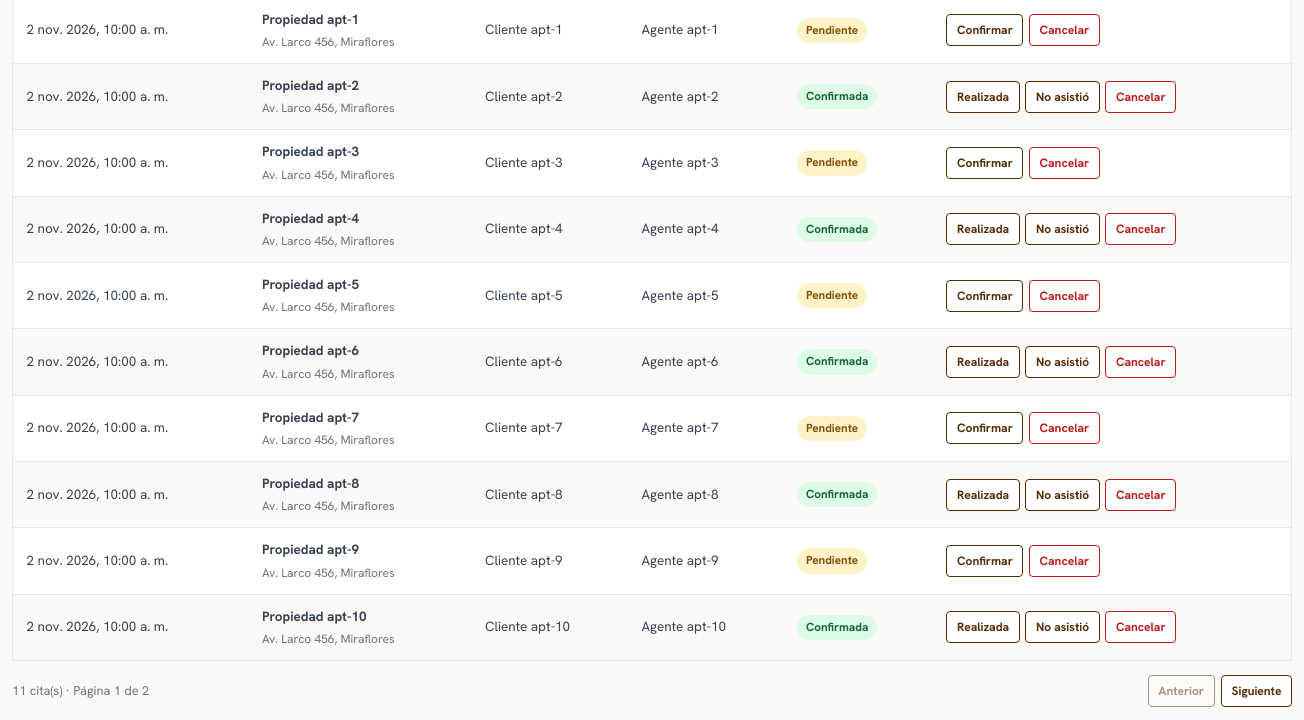
it: AppointmentListTable › filtra por estado y permite avanzar entre páginas
(page scrolled)
Expected: the text "11 cita(s) · Página 1 de 2" is shown, [12, 681, 149, 700]
Click the button "Siguiente" at (1256, 691), box [1221, 675, 1292, 707]
(page scrolled)
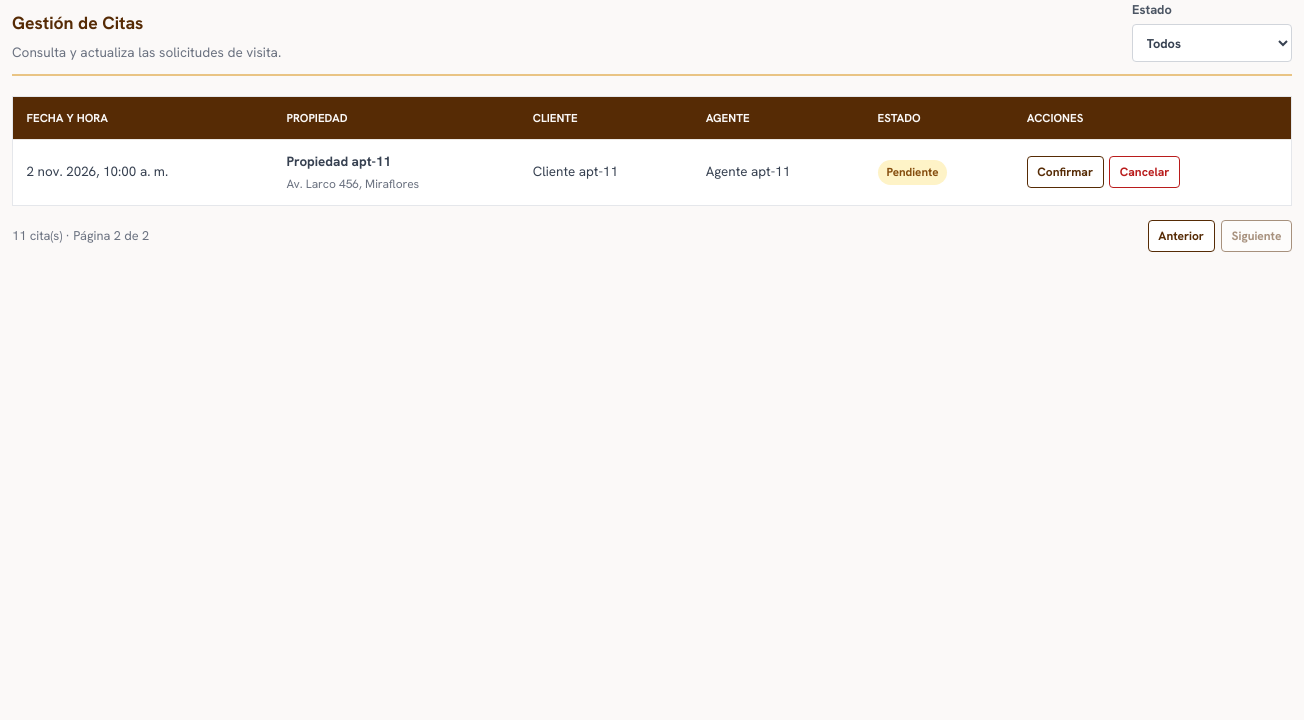
Now the text "Cliente apt-11" is shown, box [519, 139, 692, 205]
Select "Confirmada" in the dropdown named "Filtrar citas por estado" at (1212, 43), box [1132, 24, 1292, 62]
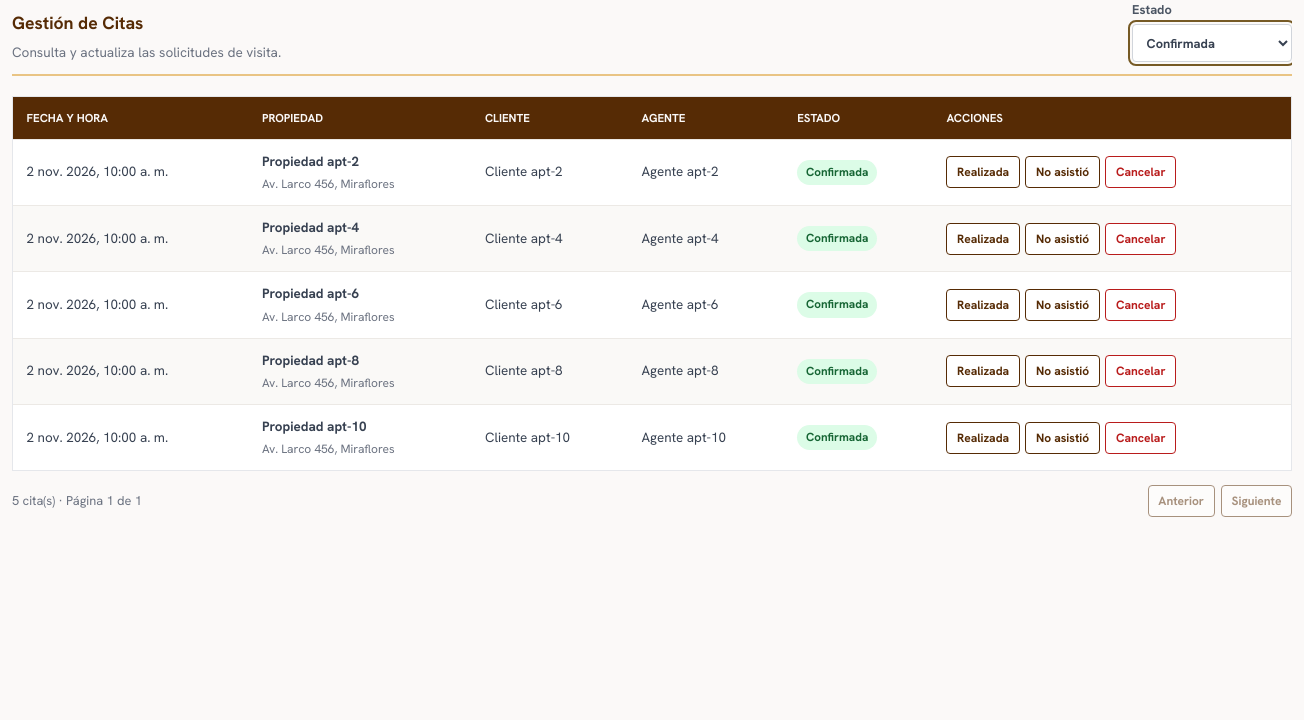
Now the text "5 cita(s) · Página 1 de 1" is shown, box [12, 491, 142, 511]
Now the text "Cliente apt-2" is shown, box [471, 139, 628, 205]
